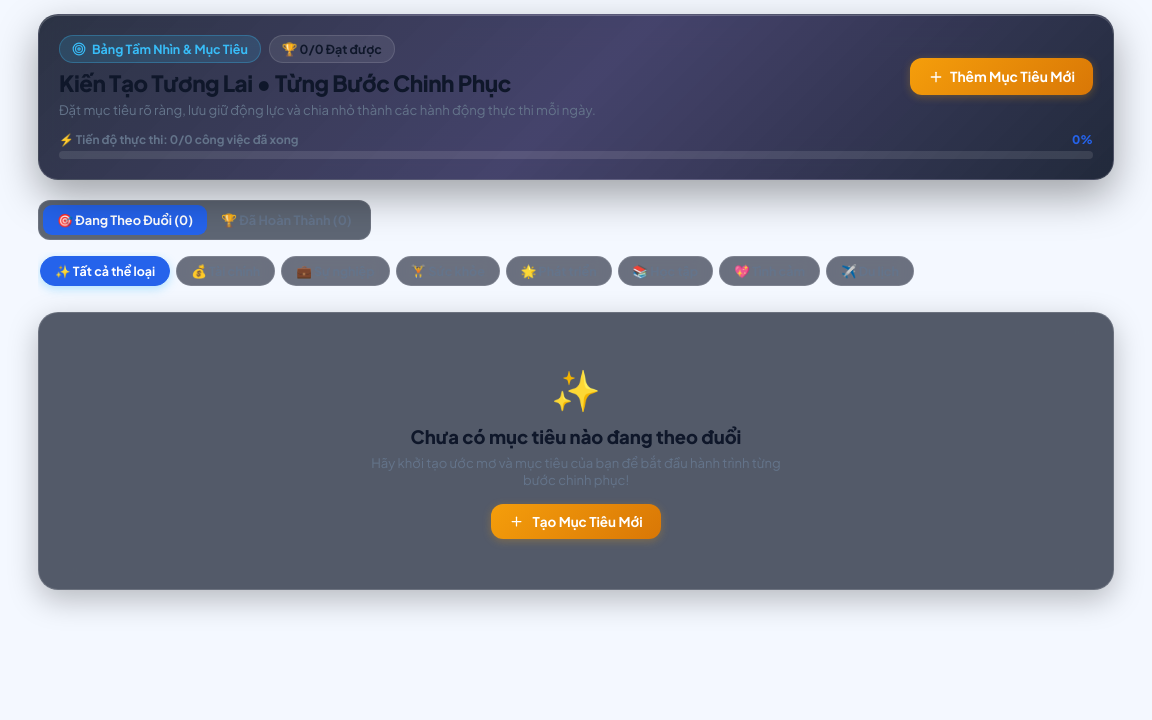
Scenario: GoalsPage › chuyển đổi qua lại giữa Đang theo đuổi và Đã hoàn thành
Click the button "🏆 Đã Hoàn Thành (0)" at (286, 220), box [207, 205, 366, 235]
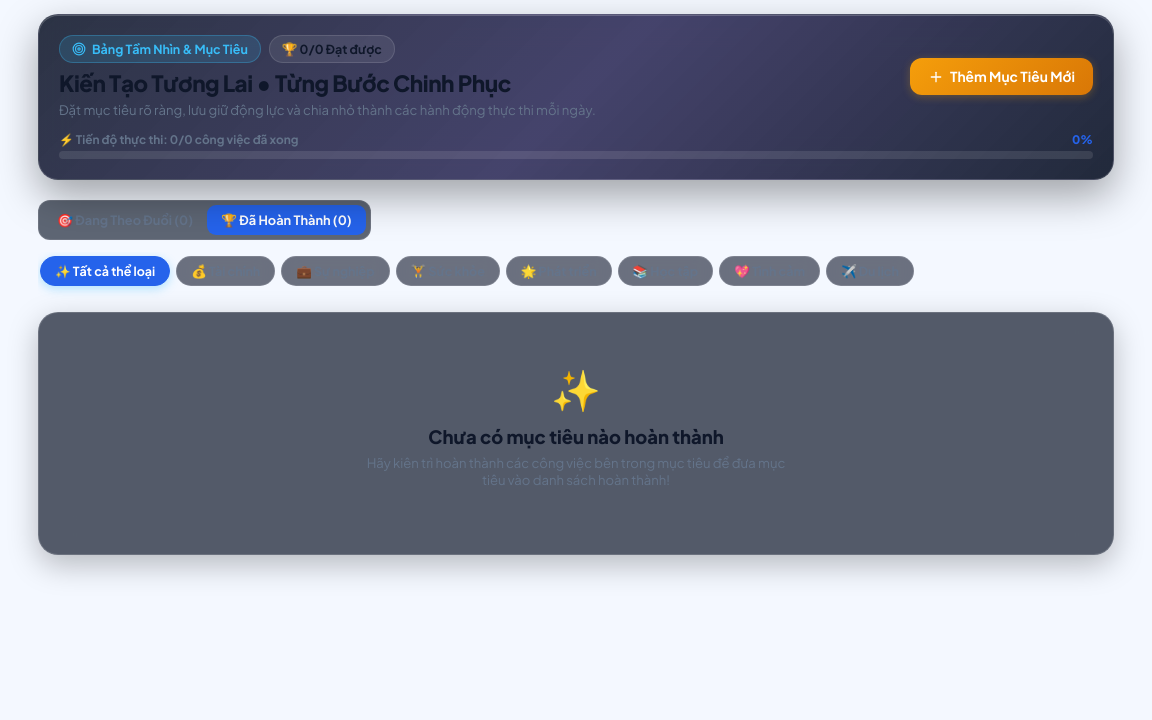
Result: the heading "Chưa có mục tiêu nào hoàn thành" is shown at [428, 425, 724, 448]
Click the button "🎯 Đang Theo Đuổi (0)" at (125, 220), box [43, 205, 207, 235]
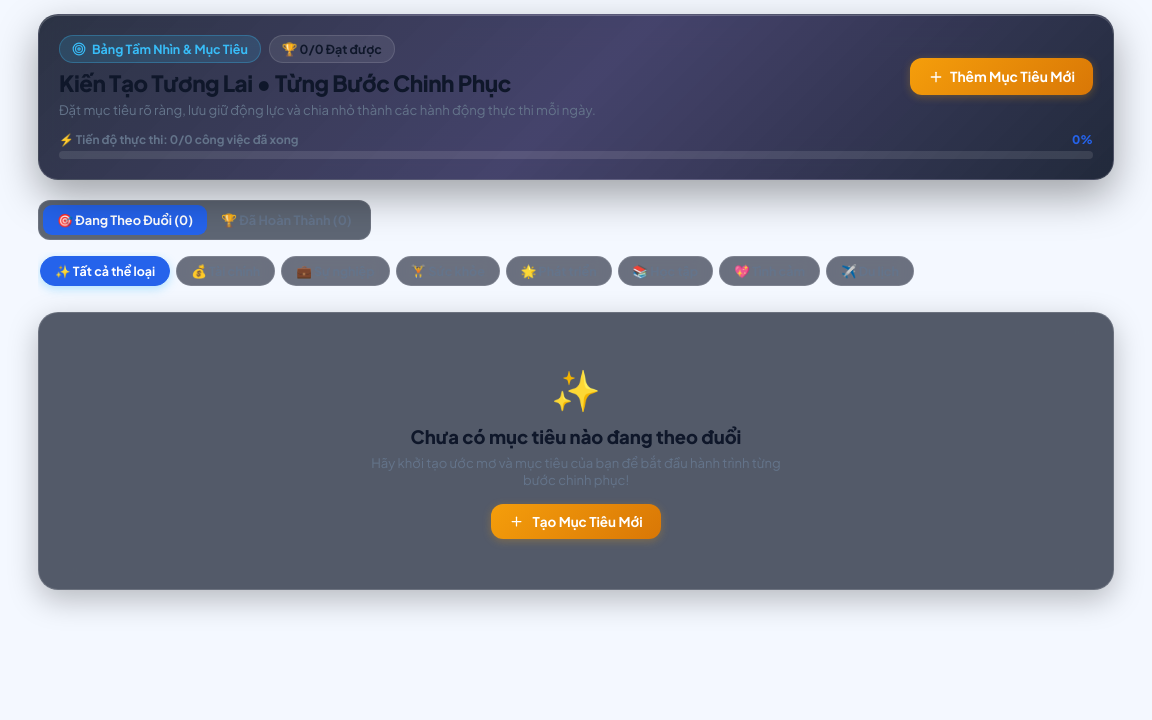
Result: the heading "Chưa có mục tiêu nào đang theo đuổi" is shown at [411, 425, 741, 448]
